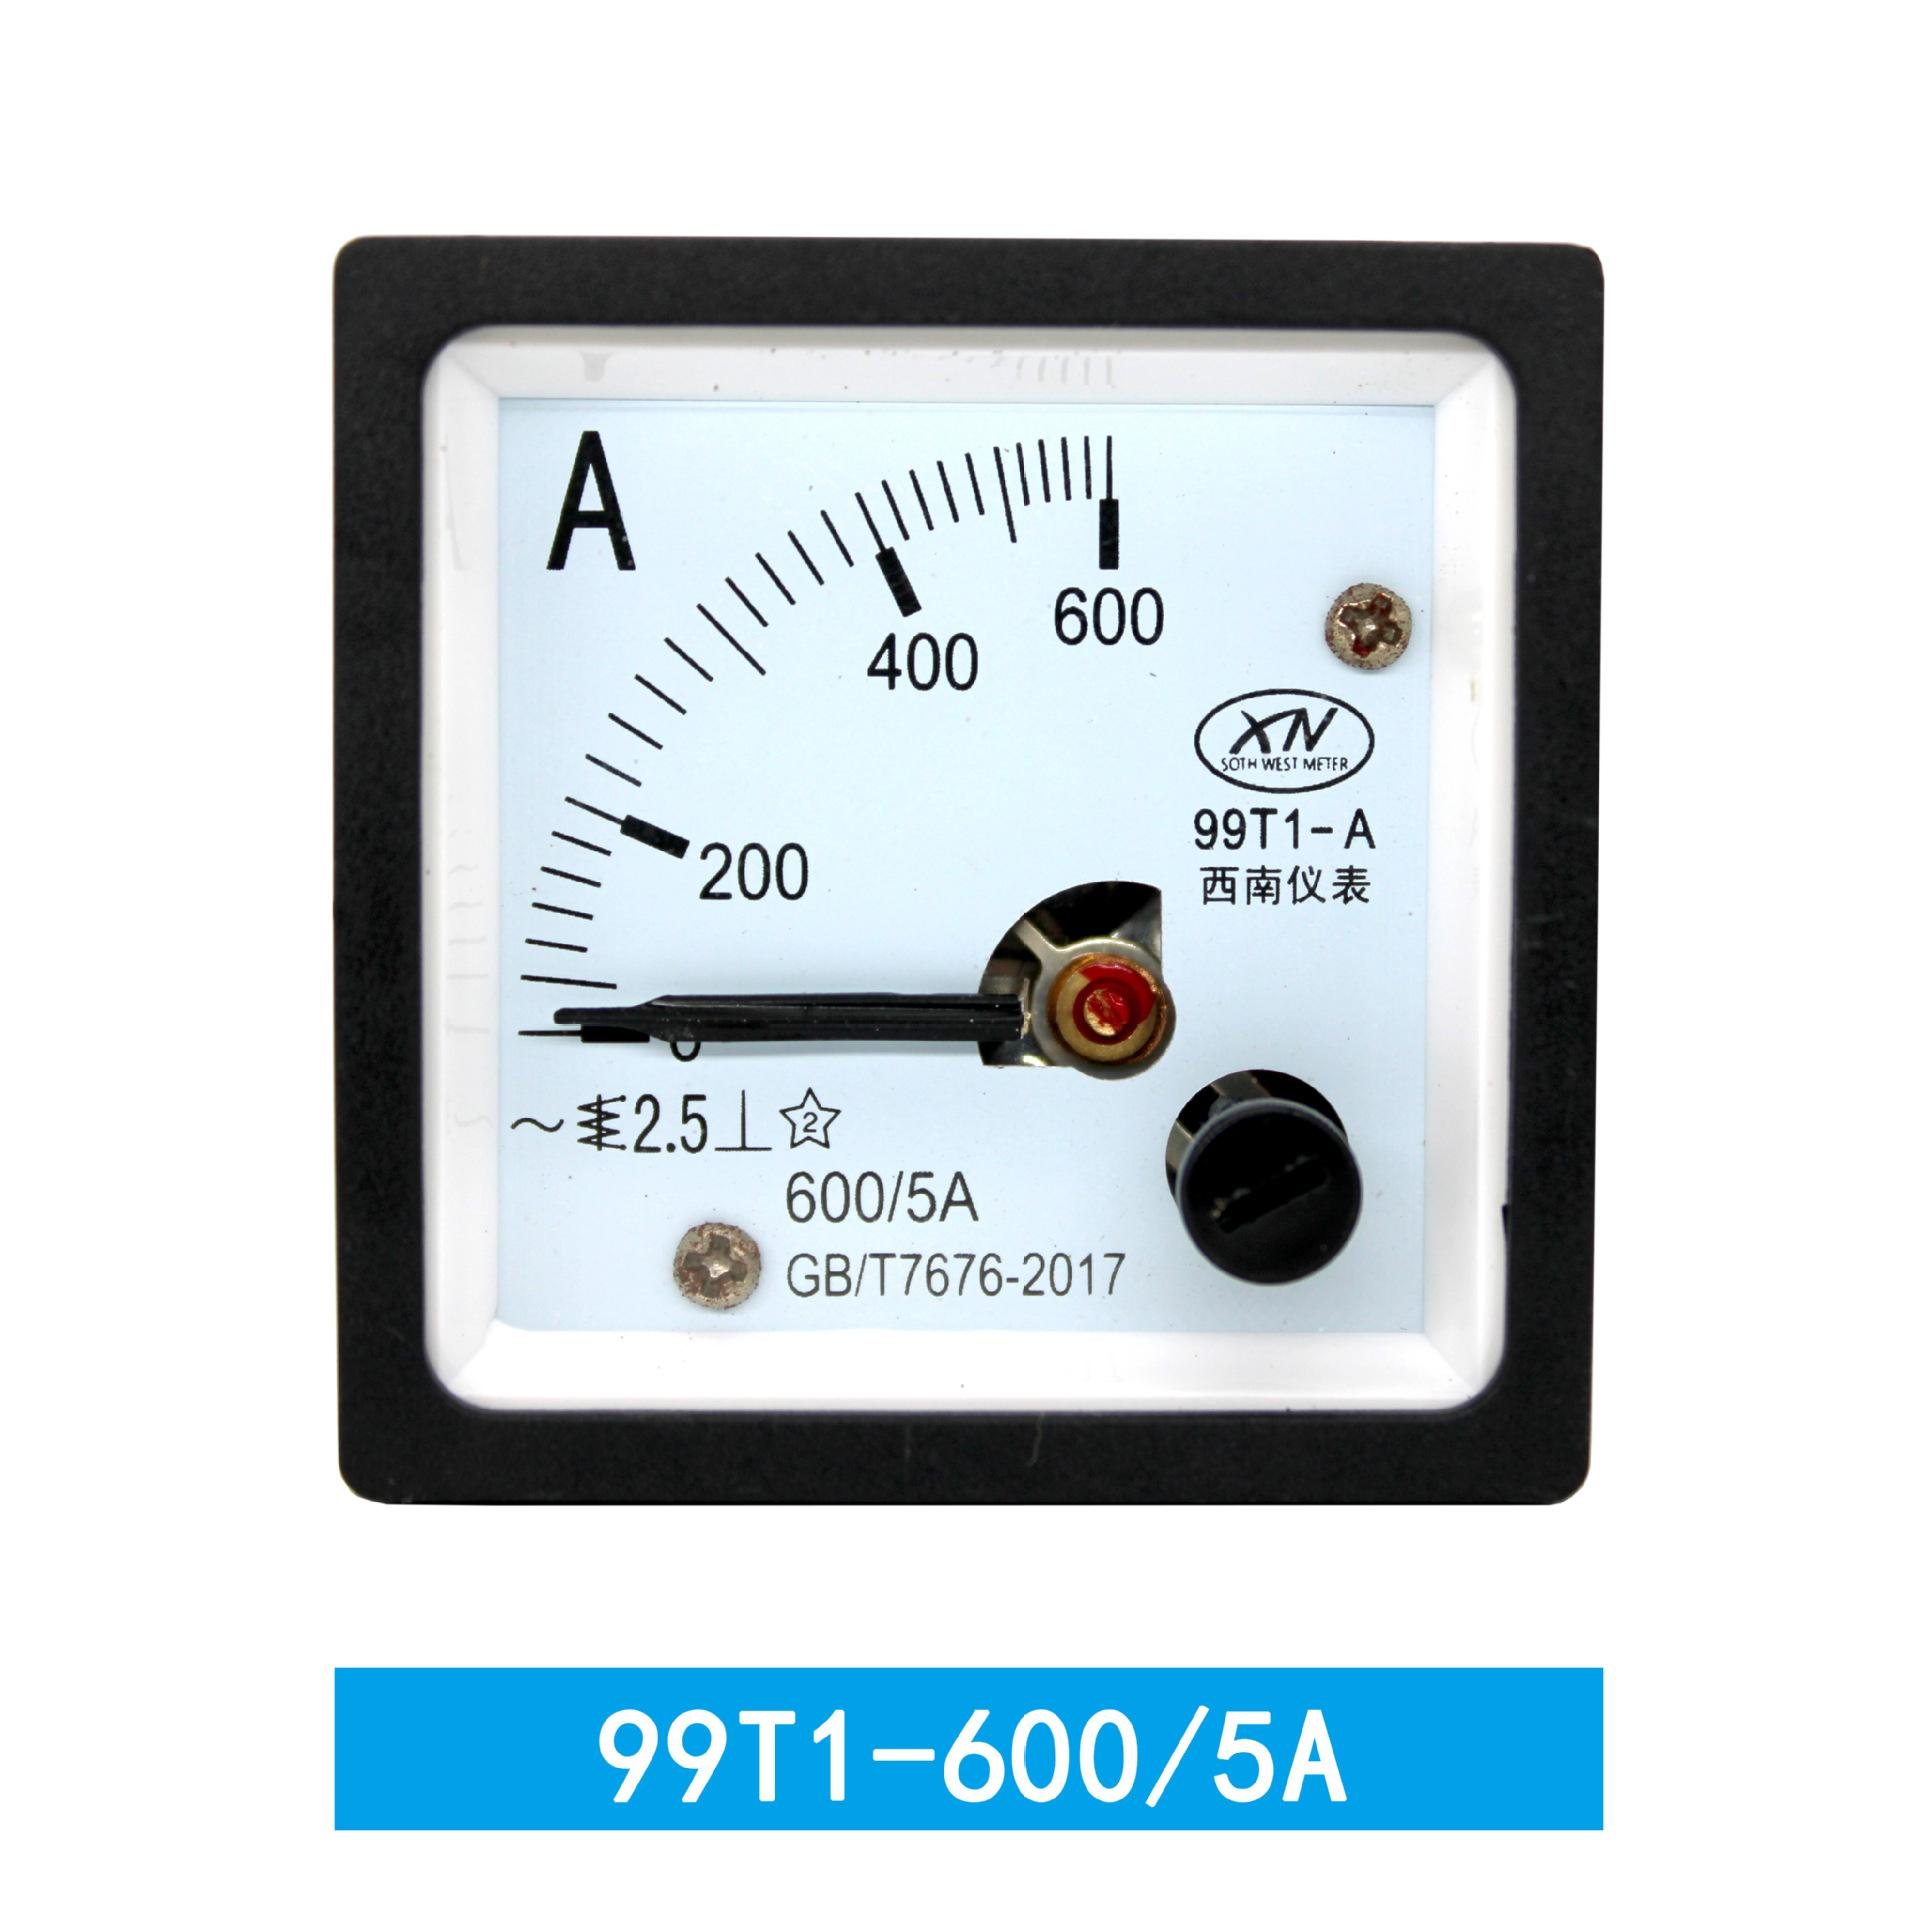pointer: (406, 311, 1505, 1435)
